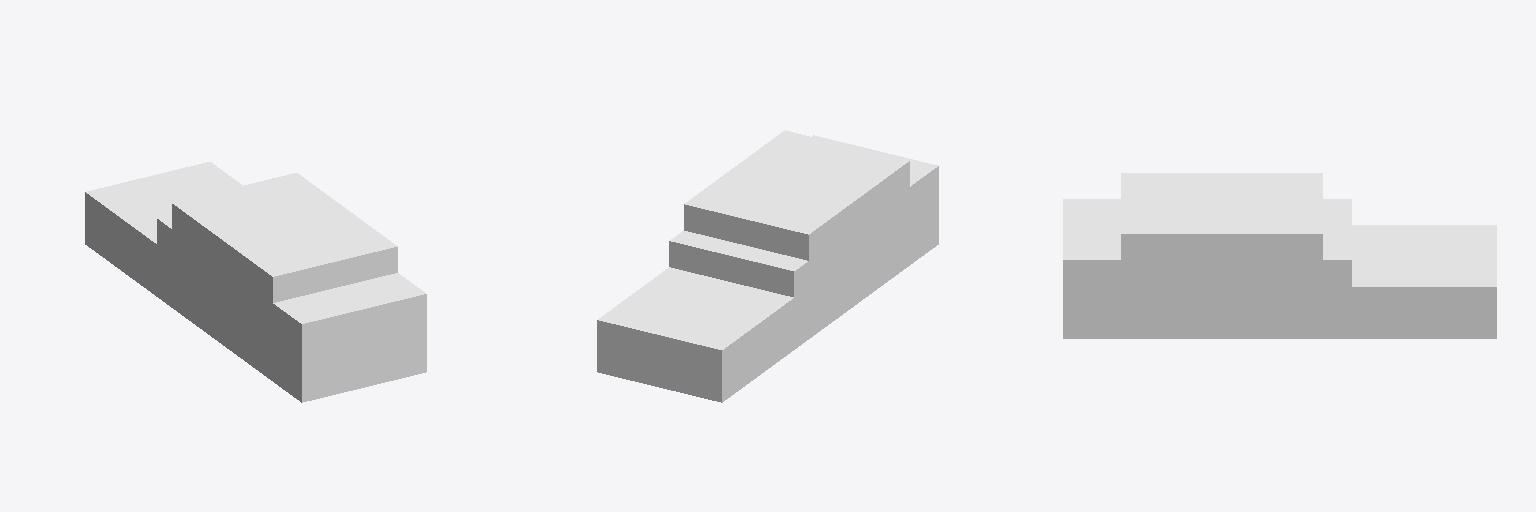
File: Character-13-Lfoot.obj
3 views of the same model, side by side, from view 1: azimuth 30°, elevation 25°; view 2: azimuth 150°, elevation 25°; view 3: azimuth 270°, elevation 25° (orthographic).
Parts seen in each view (by area): view 1: Lfoot; view 2: Lfoot; view 3: Lfoot.
Part boxes in pixels (bbox=[...]): Lfoot: bbox=[85, 162, 426, 402]; Lfoot: bbox=[597, 130, 938, 402]; Lfoot: bbox=[1063, 173, 1496, 338].
Bounding box in the file's own units: 0.5 × 0.4 × 1.5.